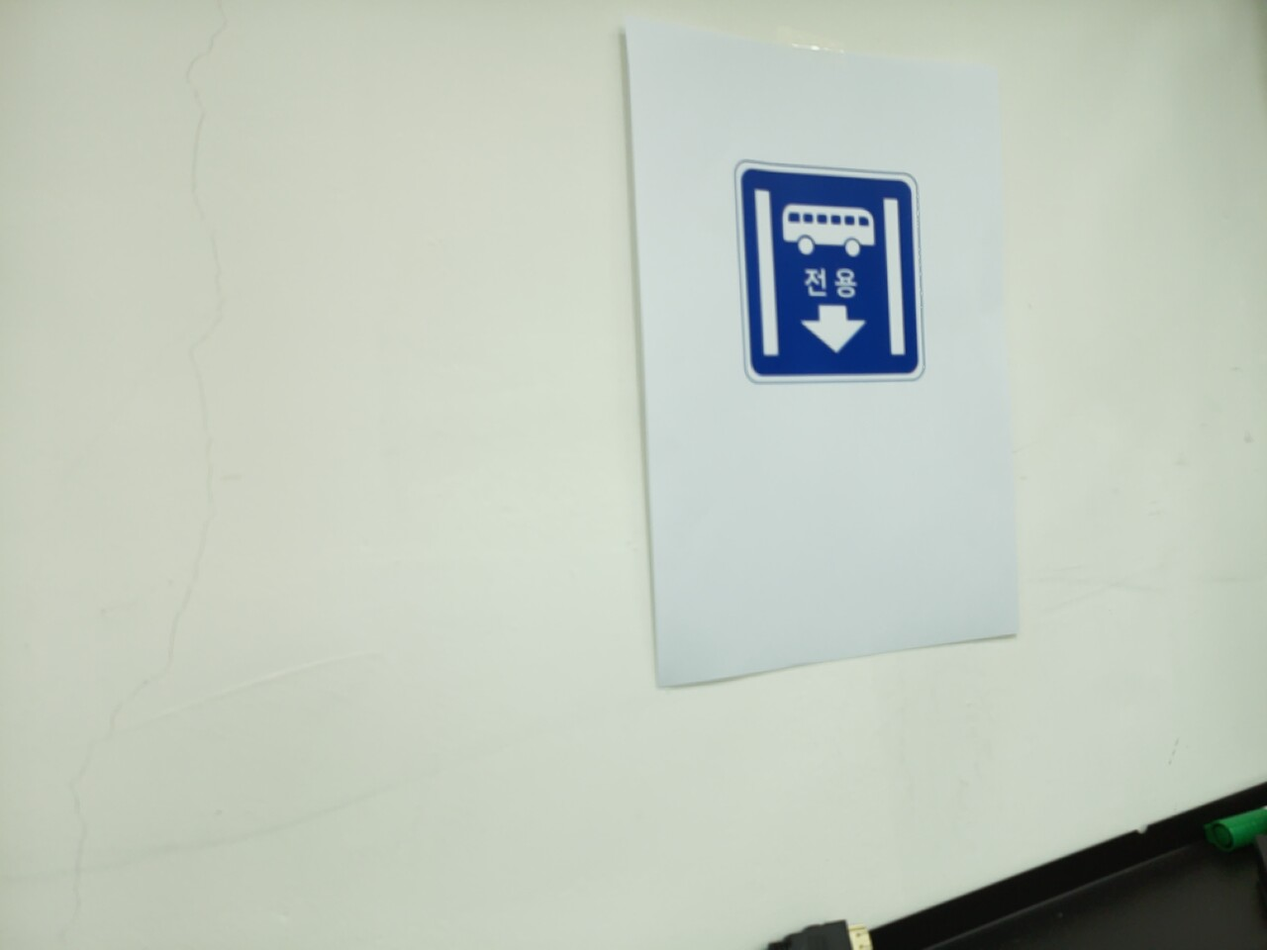bus_only_lane: (733, 160, 926, 384)
